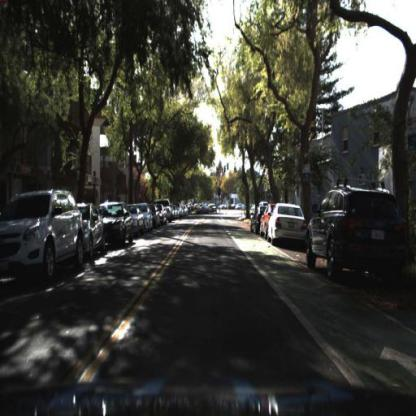car: (301, 179, 407, 278), (0, 188, 83, 278), (265, 198, 306, 246), (100, 199, 136, 246), (78, 200, 105, 256), (126, 202, 145, 238), (140, 200, 154, 234)
